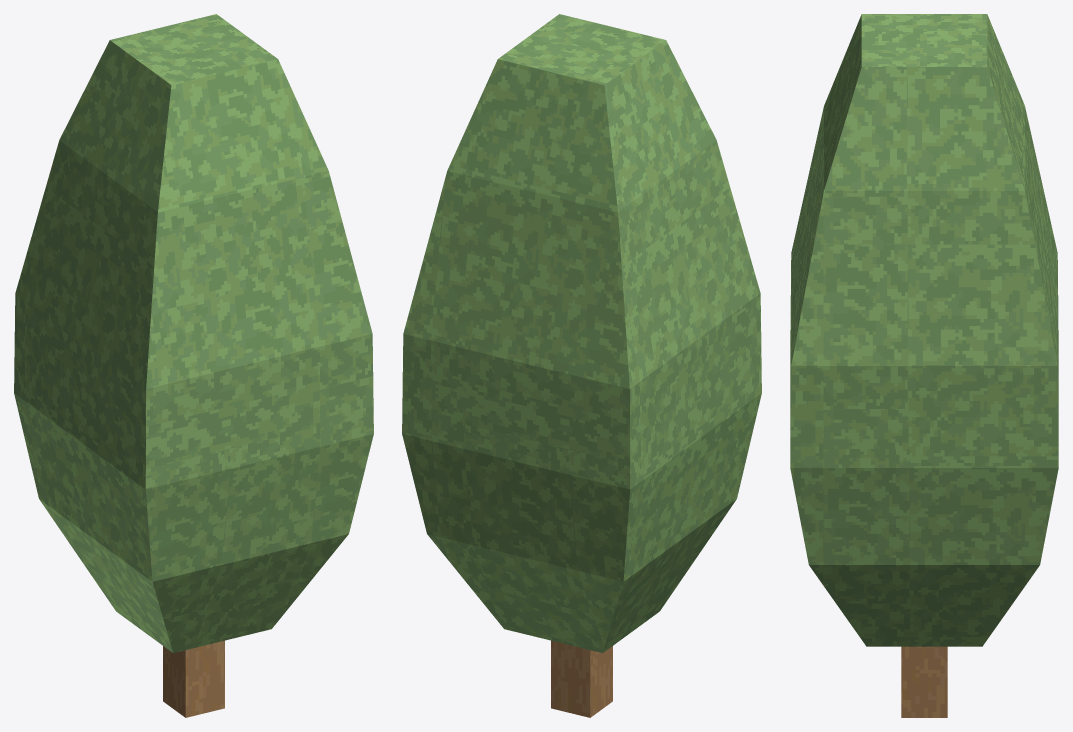
Rendered from ArbolGreciaTipoB.fbx.
3 renders of one model, left to right at view 1: azimuth 30°, elevation 25°; view 2: azimuth 150°, elevation 25°; view 3: azimuth 270°, elevation 25°, orthographic.
Parts seen in each view (by area): view 1: ArbolGriego2; view 2: ArbolGriego2; view 3: ArbolGriego2.
Boxes of the visible parts, left/top/right/bottom form: ArbolGriego2: left=14, top=14, right=373, bottom=717; ArbolGriego2: left=402, top=14, right=761, bottom=717; ArbolGriego2: left=790, top=14, right=1058, bottom=717.
Bounding box in the file's own units: 4.6 × 12.63 × 4.6.
